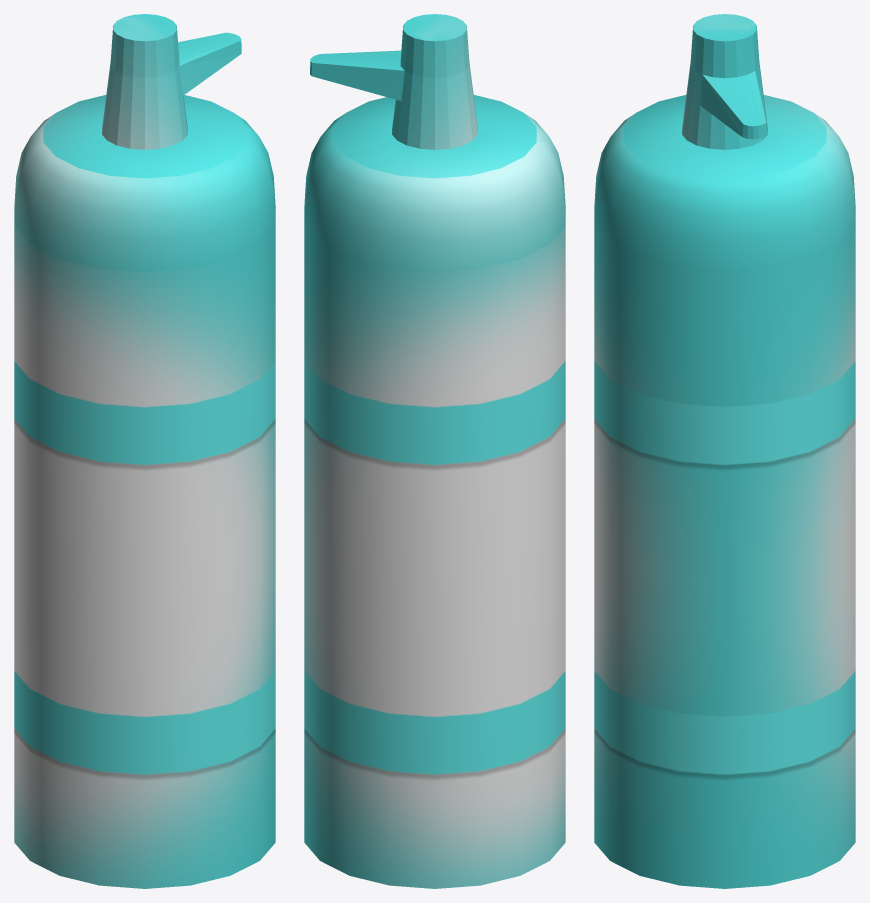
File: nitrous 2.FBX
3 views of the same model, side by side, from view 1: azimuth 30°, elevation 25°; view 2: azimuth 150°, elevation 25°; view 3: azimuth 270°, elevation 25° (orthographic).
Visible parts, largest first — view 1: Cylinder001; view 2: Cylinder001; view 3: Cylinder001.
Boxes of the visible parts, x1,y1,x2,y2 form: Cylinder001: (14, 14, 275, 888); Cylinder001: (304, 14, 565, 888); Cylinder001: (594, 14, 855, 888).
Size of the model in its own units: 7.53 by 25.24 by 7.42.
Materials: 1 (1 with a texture image).
